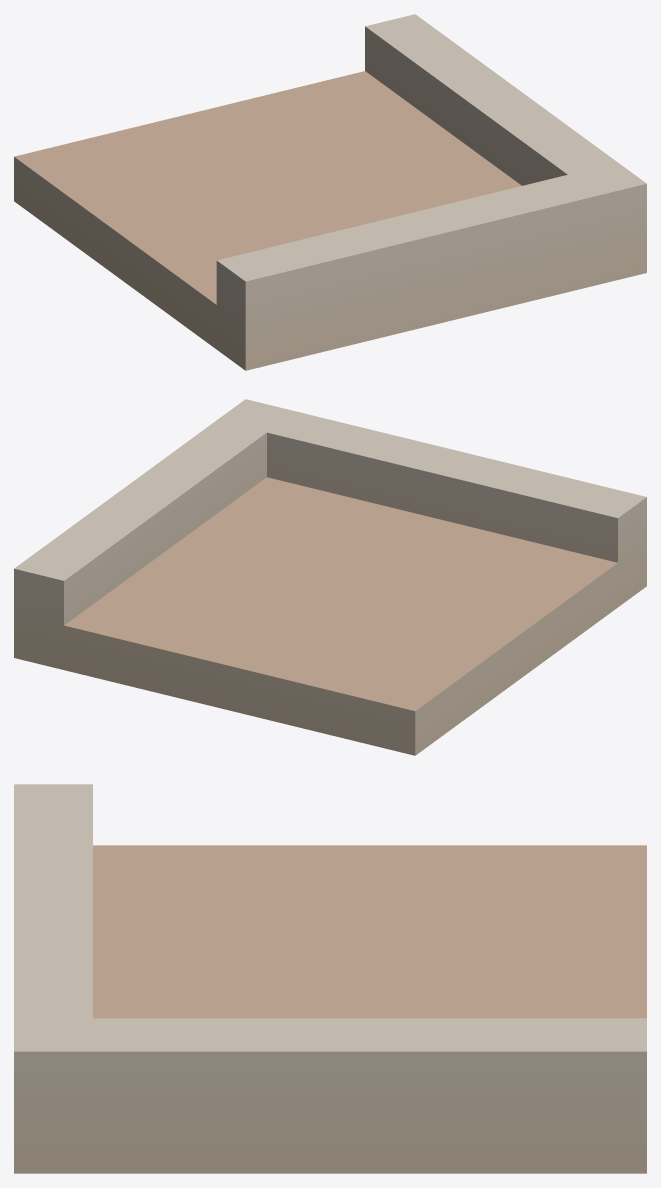
The model's file is roof-flat-border-corner.glb.
3 views of the same model, one above another, from view 1: azimuth 30°, elevation 25°; view 2: azimuth 150°, elevation 25°; view 3: azimuth 270°, elevation 25° (orthographic). The views are drawn at different scales.
Visible parts, largest first — view 1: roof-flat-border-corner; view 2: roof-flat-border-corner; view 3: roof-flat-border-corner.
Boxes of the visible parts, left/top/right/bottom form: roof-flat-border-corner: left=14, top=14, right=646, bottom=370; roof-flat-border-corner: left=14, top=399, right=646, bottom=755; roof-flat-border-corner: left=14, top=784, right=646, bottom=1173.
Bounding box in the file's own units: 1 × 0.2125 × 1.
